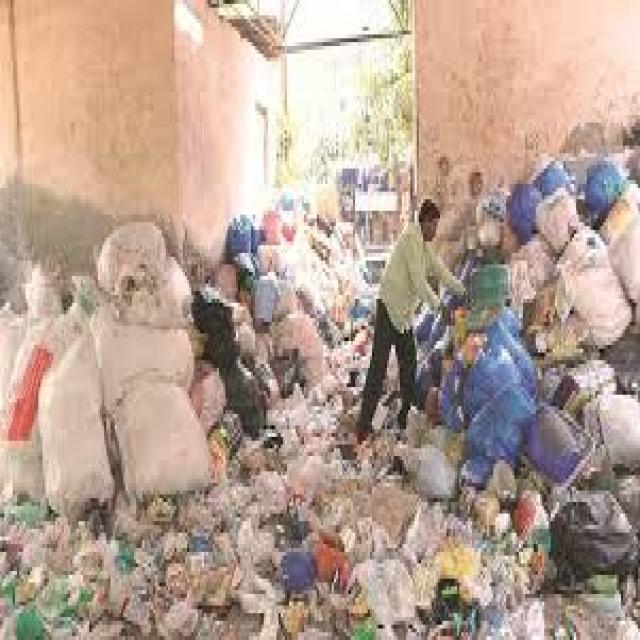heap: (61, 495, 594, 640)
